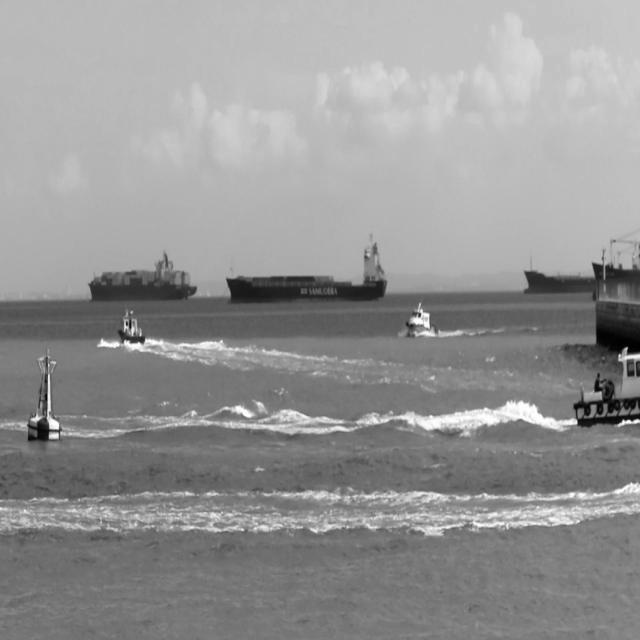buoy: (26, 347, 62, 440)
ship: (225, 230, 388, 304), (89, 246, 198, 302), (572, 346, 639, 426), (523, 254, 595, 294), (117, 301, 148, 344), (404, 302, 438, 336)
